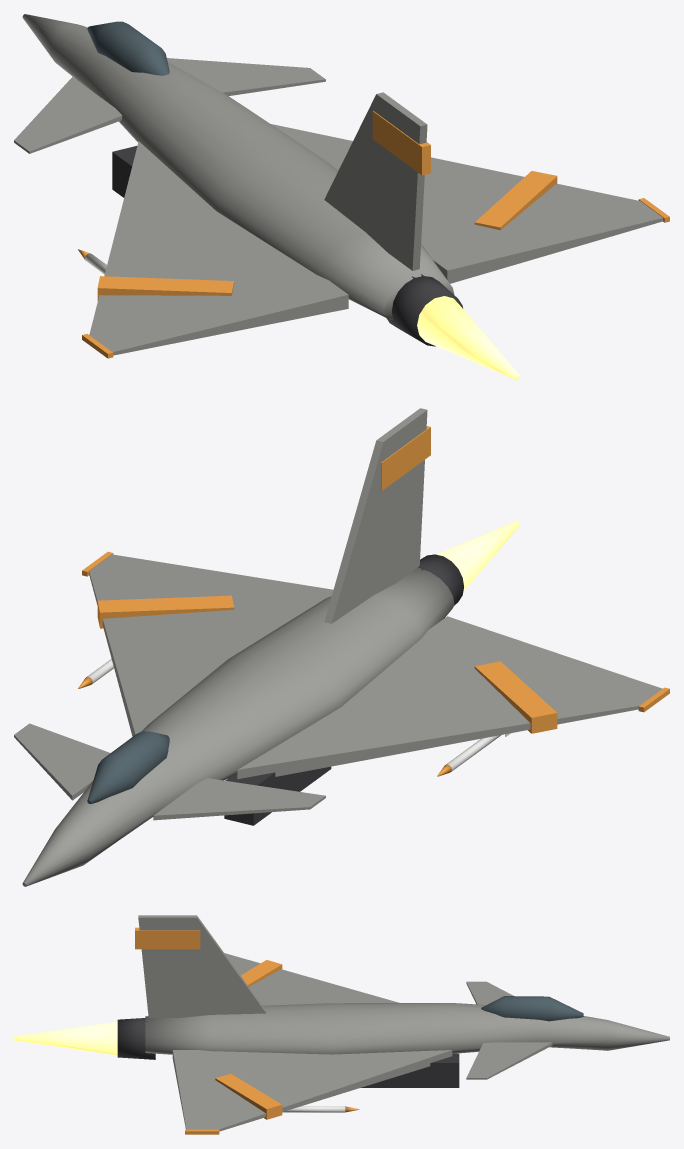
File: jet_sevrin.glb
3 renders of one model, top to bottom at view 1: azimuth 30°, elevation 25°; view 2: azimuth 150°, elevation 25°; view 3: azimuth 270°, elevation 25°, orthographic. The views are drawn at different scales.
Visible parts, largest first — view 1: Airframe, Afterburner_0, Canopy; view 2: Airframe, Canopy, Afterburner_0; view 3: Airframe, Afterburner_0, Canopy, Missile_R.
Boxes of the visible parts, x1,y1,x2,y2 form: Airframe: [14, 14, 669, 358]; Afterburner_0: [417, 296, 519, 379]; Canopy: [87, 21, 169, 75]; Airframe: [14, 408, 669, 886]; Canopy: [87, 731, 169, 803]; Afterburner_0: [436, 521, 519, 591]; Airframe: [117, 915, 669, 1134]; Afterburner_0: [14, 1021, 117, 1055]; Canopy: [481, 996, 583, 1021]; Missile_R: [282, 1106, 359, 1112].
Bounding box in the file's own units: 12.52 × 4.75 × 19.
